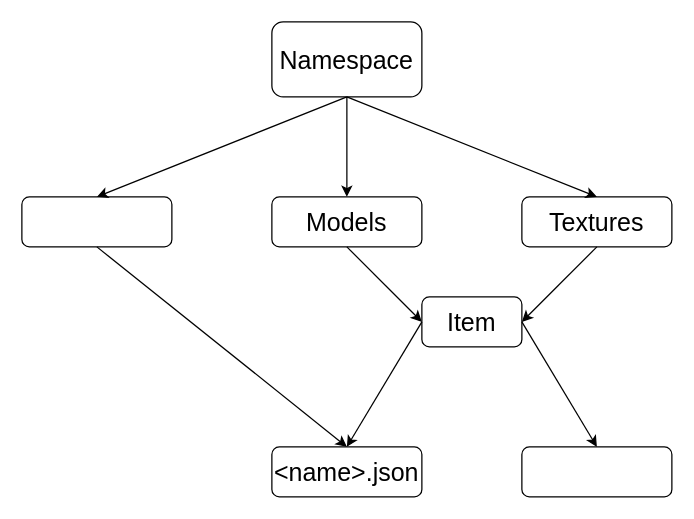
Image size: 694x519. Some labels were removed from this diagram. Here are the shapes that lost their labels. From the top down, the centre of each, then its label:
(x=96, y=221): Items
(x=596, y=471): <name>.png
